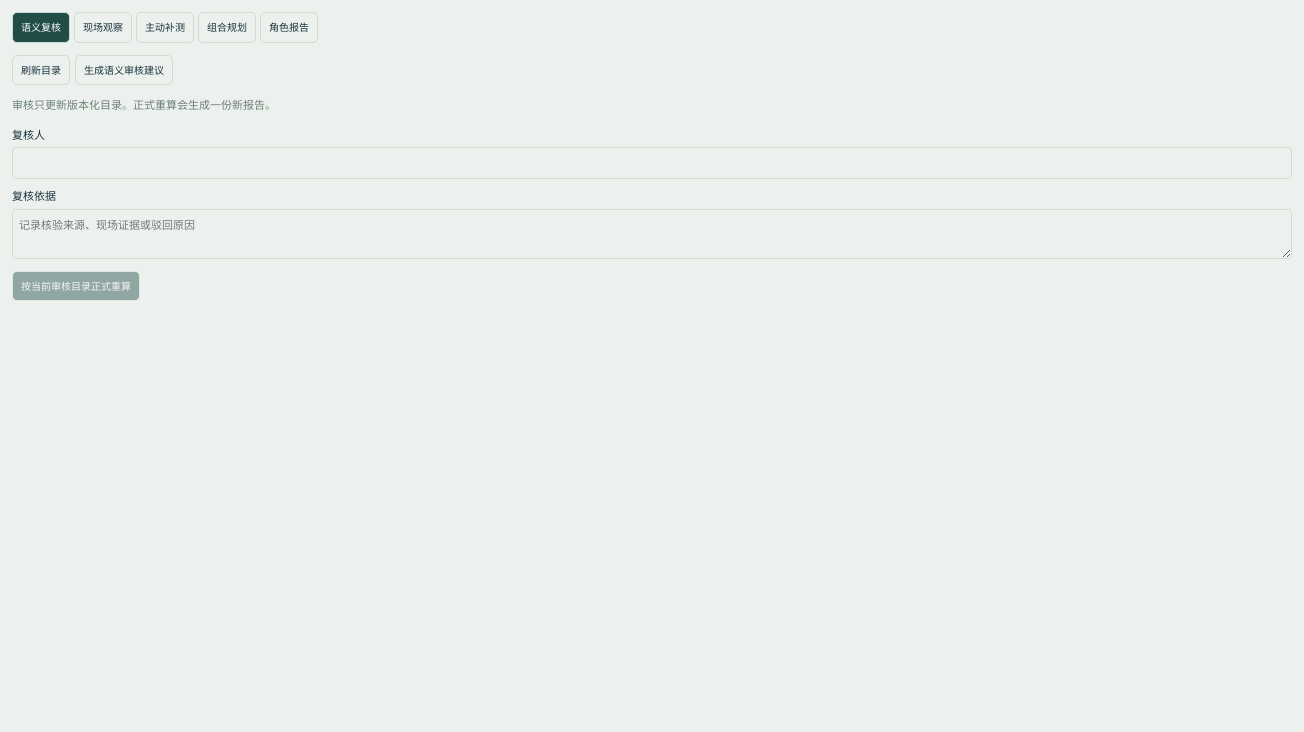
Test case: 审核、测量与组合规划闭环 › 角色报告分层显示证据，模型文本不会成为HTML
Click the button "角色报告". click: (289, 27)
box: top-left (260, 12), bottom-right (318, 42)
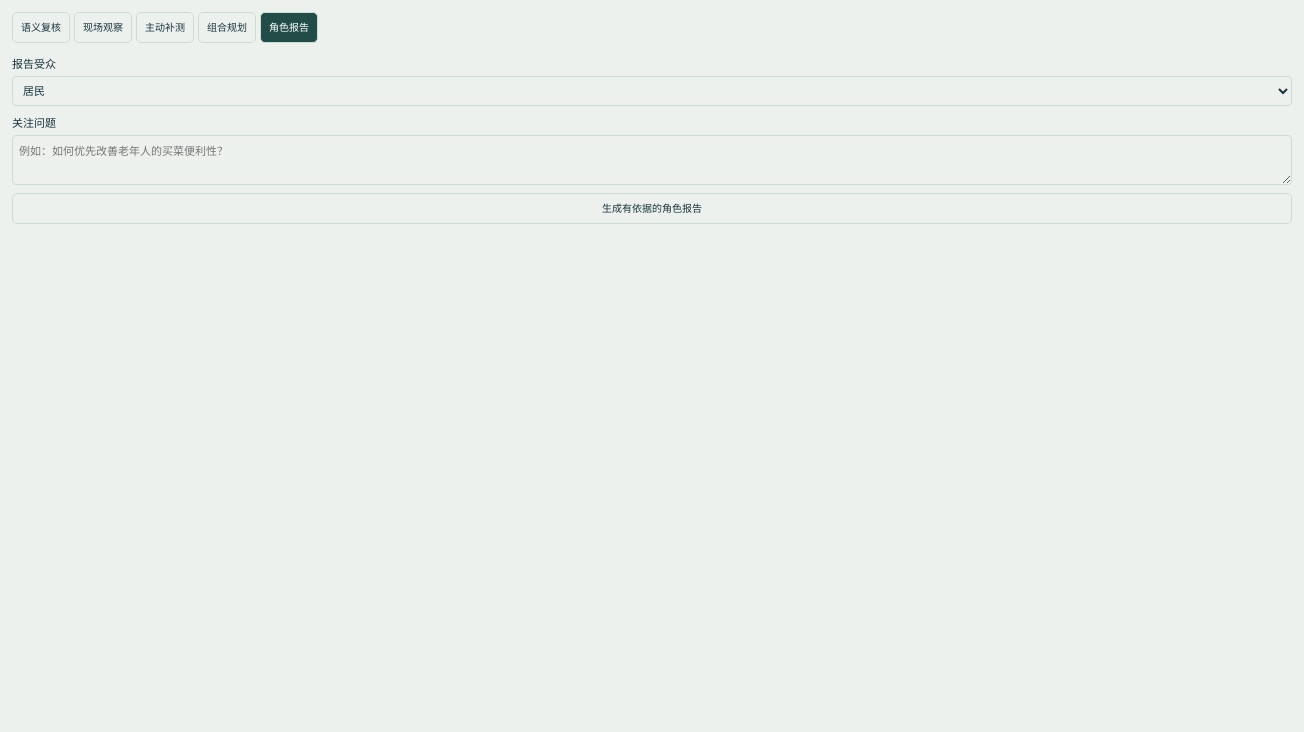
Select "规划师" in the dropdown labelled "报告受众". click: (652, 91)
box: top-left (12, 76), bottom-right (1292, 106)
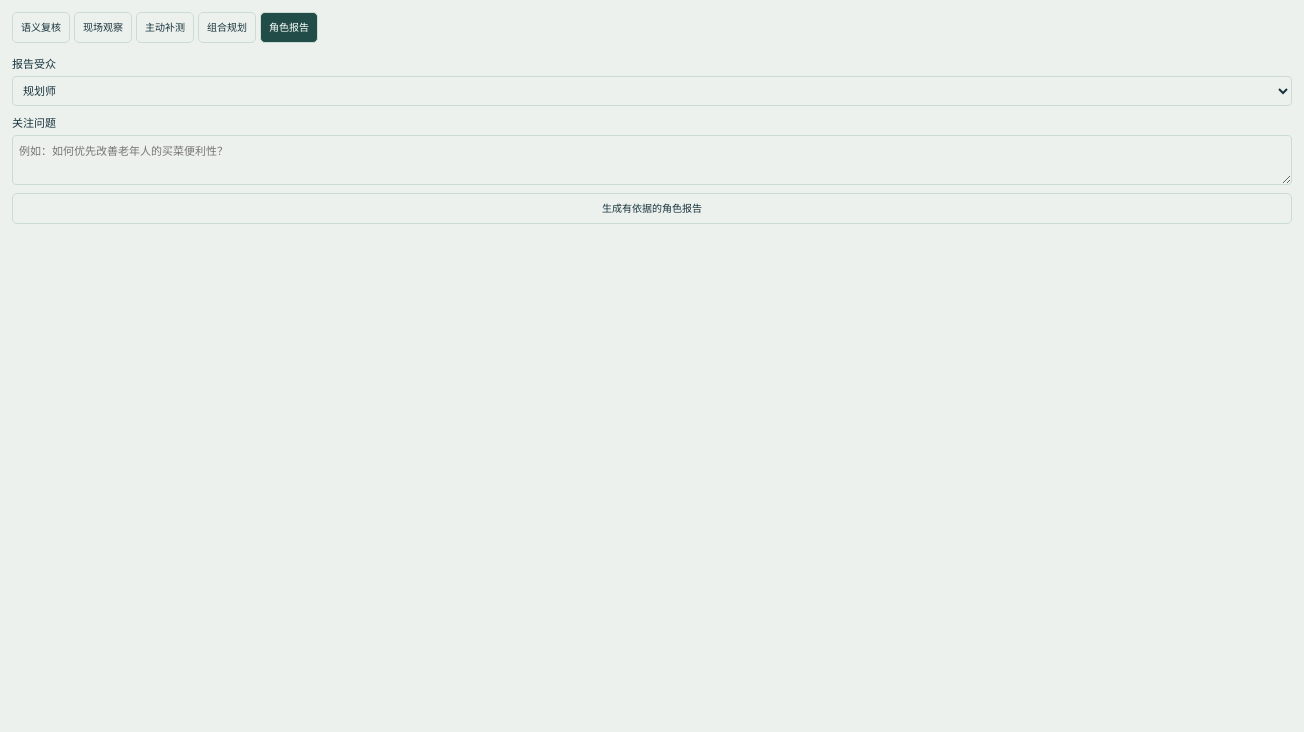
Type "关注买菜便利性" into the text box labelled "关注问题". click: (652, 160)
box: top-left (12, 135), bottom-right (1292, 185)
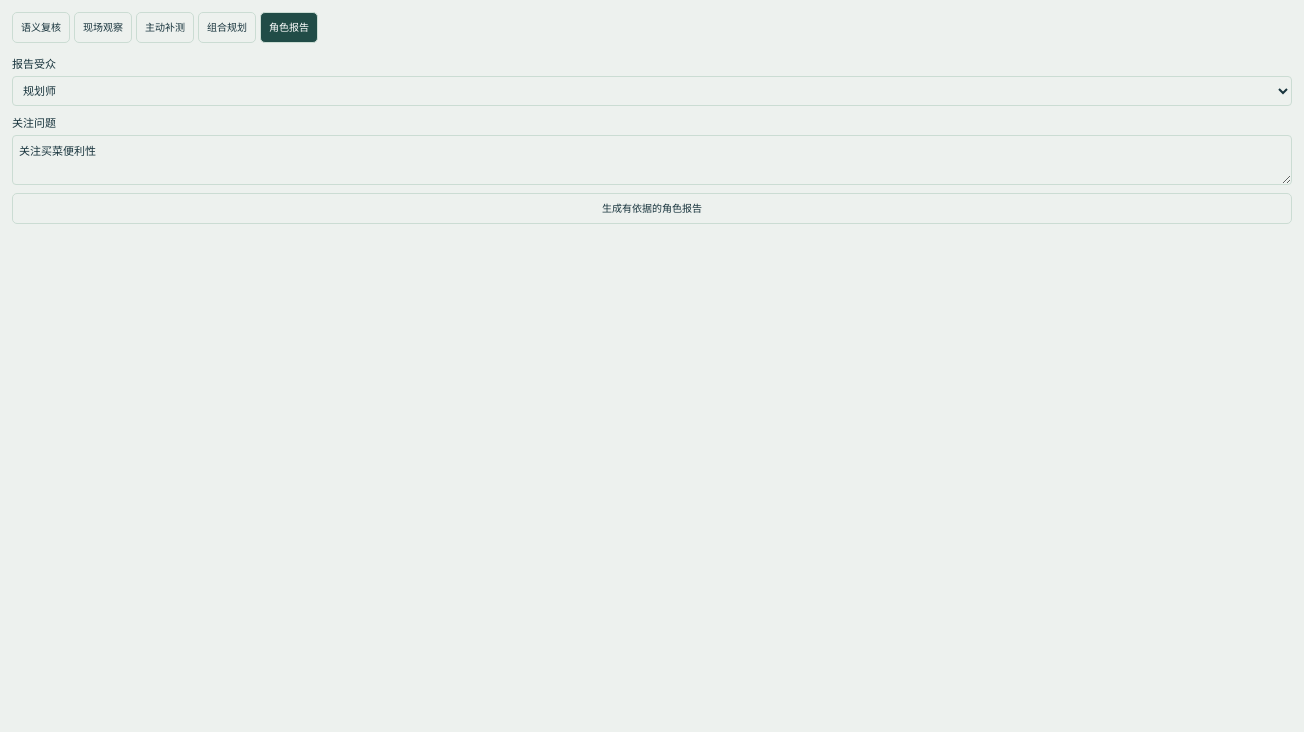
Submit the form, box top-left (12, 54), bottom-right (1292, 224)
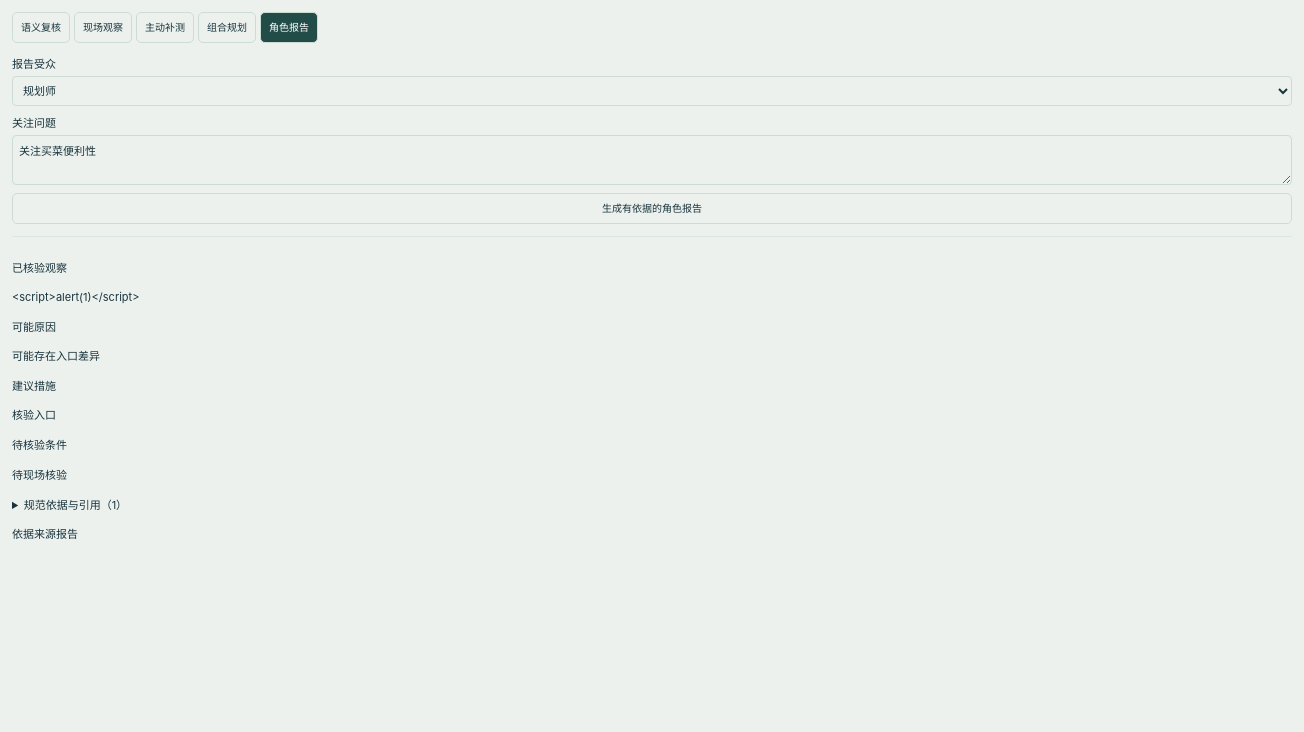
Check: the text "已核验观察" is shown, box top-left (12, 261), bottom-right (67, 275)
Check: the text "可能原因" is shown, box top-left (12, 320), bottom-right (56, 334)
Check: the text "建议措施" is shown, box top-left (12, 379), bottom-right (56, 393)
